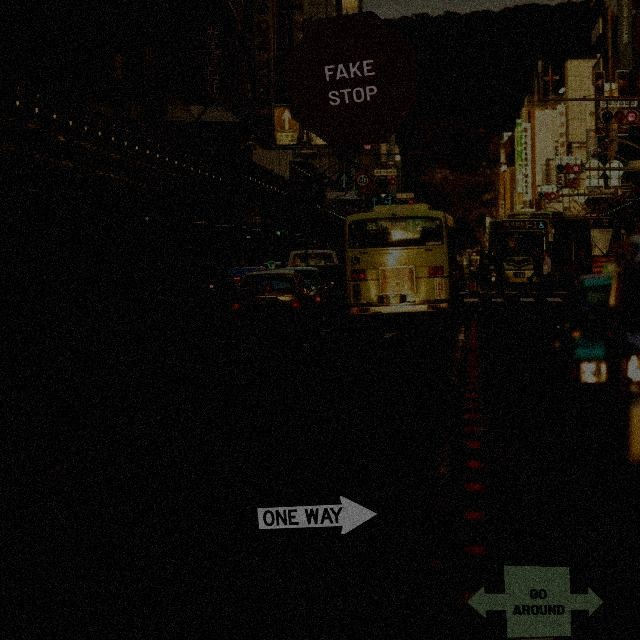FAKE_STOP: (281, 10, 421, 148)
GO_AROUND: (465, 564, 605, 639)
ONE_WAY_ right: (248, 491, 388, 540)
